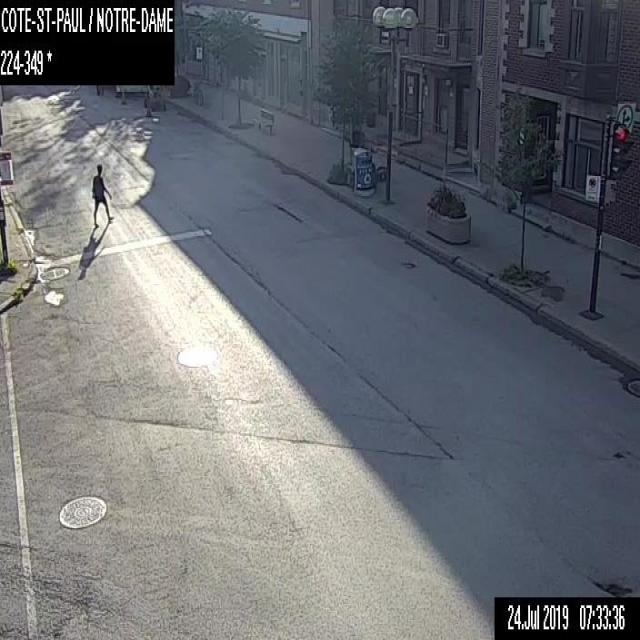pedestrian: (90, 163, 115, 227)
